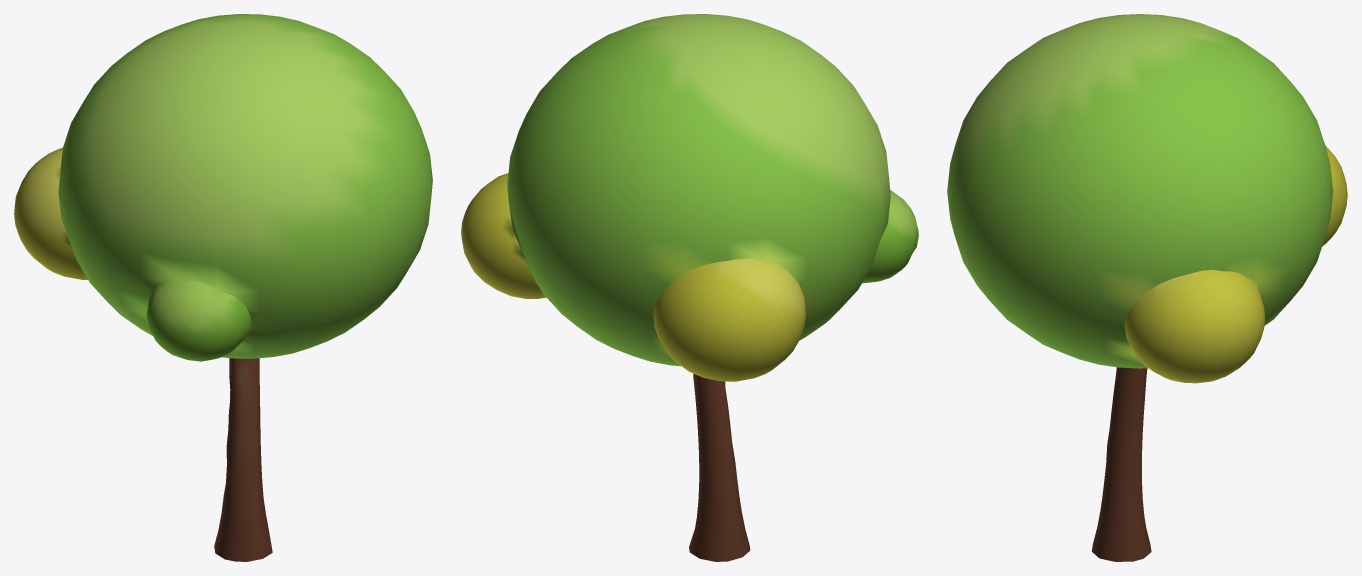
File: lollipop-tree-101-lod1.obj
The picture shows the model from 3 angles, left to right: view 1: azimuth 30°, elevation 25°; view 2: azimuth 150°, elevation 25°; view 3: azimuth 270°, elevation 25°; orthographic projection. The views are drawn at different scales.
Parts seen in each view (by area): view 1: simplified; view 2: simplified; view 3: simplified.
Part boxes in pixels (x1,y1,x2,y2): simplified: (14, 14, 432, 561); simplified: (461, 14, 918, 561); simplified: (947, 14, 1347, 561).
Size of the model in its own units: 361 by 487 by 339.
